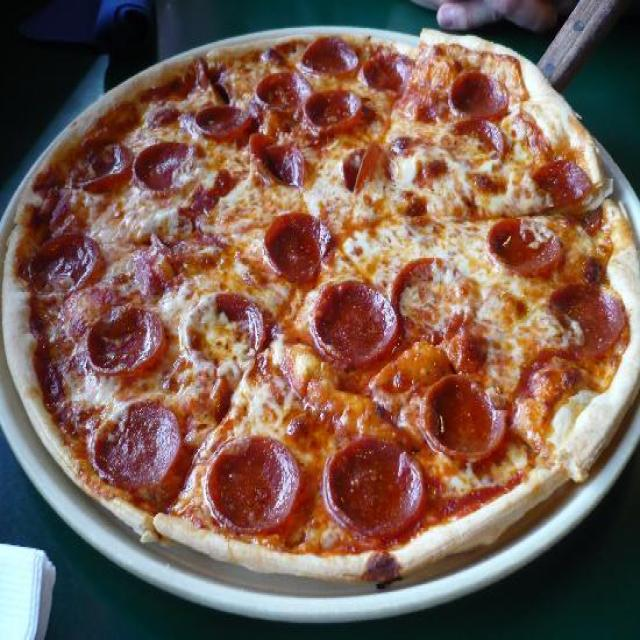pepperoni: (322, 436, 428, 538), (206, 437, 300, 534), (88, 400, 181, 494), (547, 280, 625, 374), (316, 276, 395, 364), (182, 285, 262, 369), (393, 250, 467, 340), (89, 307, 164, 379), (482, 212, 560, 276), (28, 230, 96, 300), (268, 209, 328, 281), (529, 154, 596, 212), (449, 65, 512, 125), (135, 138, 198, 194), (248, 130, 304, 190), (302, 30, 364, 80), (450, 112, 505, 168), (301, 86, 370, 130), (68, 138, 122, 188), (192, 97, 252, 142), (254, 70, 306, 118), (366, 40, 414, 92), (343, 142, 380, 191)
pizza: (0, 28, 640, 598)
